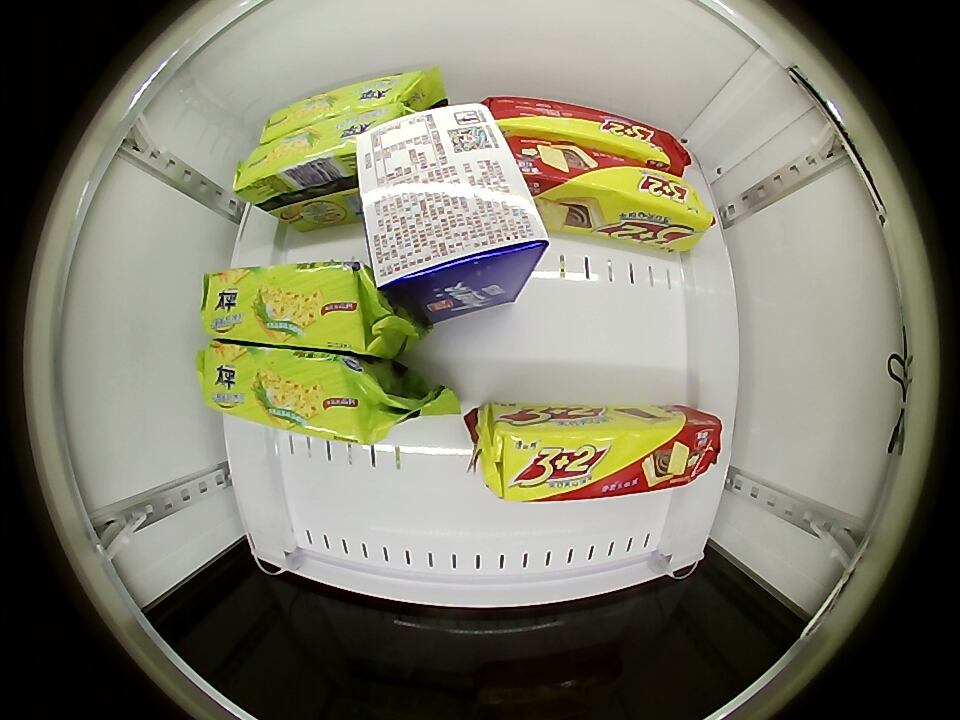3jia2: (486, 409, 707, 502), (508, 140, 711, 241), (488, 97, 688, 166)
meiniye: (354, 100, 550, 289)
taipingshuda: (201, 344, 386, 440), (234, 100, 399, 198), (201, 262, 371, 350), (260, 70, 440, 141)
